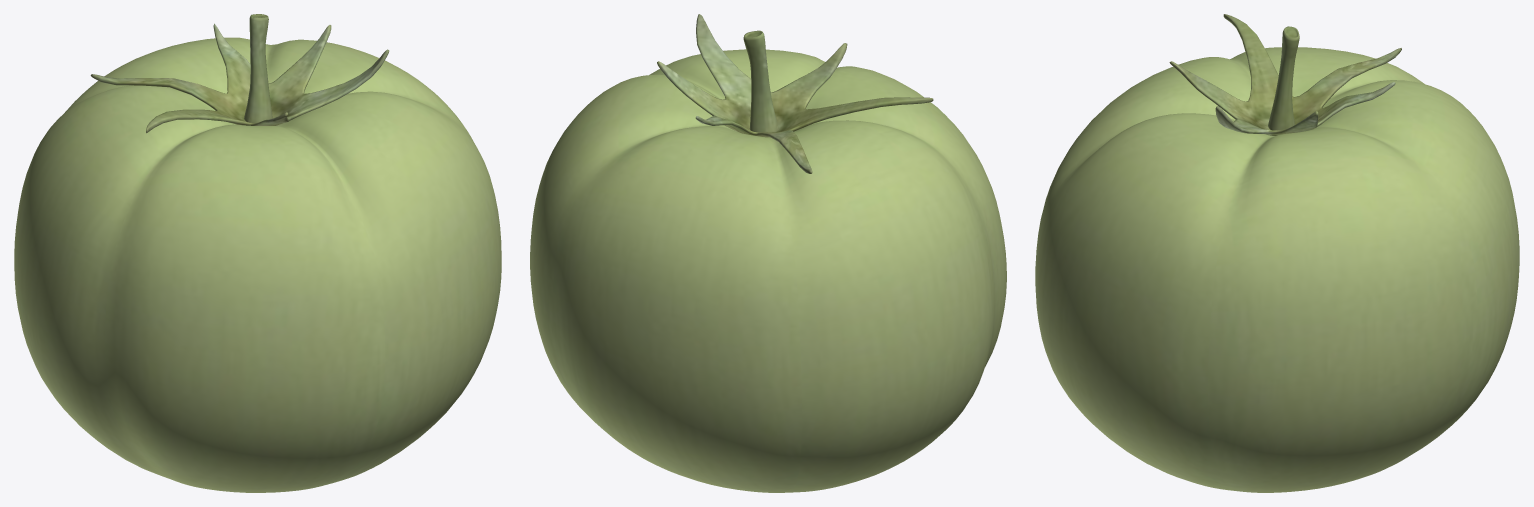
Rendered from SM_GreenTomato.fbx.
3 views of the same model, side by side, from view 1: azimuth 30°, elevation 25°; view 2: azimuth 150°, elevation 25°; view 3: azimuth 270°, elevation 25° (orthographic).
Parts seen in each view (by area): view 1: GreenTomatoPeel, GreenTomatoCalyx, GreenTomatoPedicel; view 2: GreenTomatoPeel, GreenTomatoCalyx, GreenTomatoPedicel; view 3: GreenTomatoPeel, GreenTomatoCalyx, GreenTomatoPedicel.
Part boxes in pixels (box(x1,y1,x2,y2)): GreenTomatoPeel: box(14, 37, 501, 492); GreenTomatoCalyx: box(90, 23, 389, 133); GreenTomatoPedicel: box(244, 14, 272, 122); GreenTomatoPeel: box(530, 49, 1006, 492); GreenTomatoCalyx: box(657, 14, 933, 173); GreenTomatoPedicel: box(743, 30, 778, 132); GreenTomatoPeel: box(1035, 47, 1519, 492); GreenTomatoCalyx: box(1169, 14, 1401, 135); GreenTomatoPedicel: box(1268, 26, 1299, 130).
Size of what is drawn, in the model's own units: 9.72 by 9.69 by 9.59.
